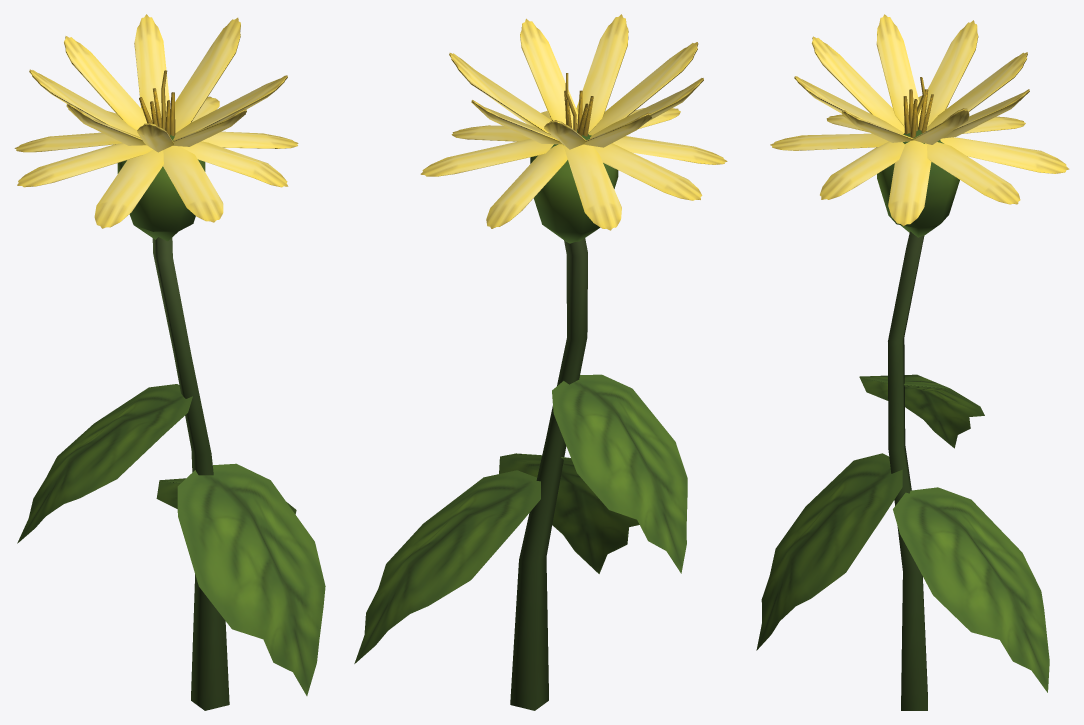
Rendered from Wildflower_Lapsana.fbx.
3 renders of one model, left to right at view 1: azimuth 30°, elevation 25°; view 2: azimuth 150°, elevation 25°; view 3: azimuth 270°, elevation 25°, orthographic. The views are drawn at different scales.
Parts seen in each view (by area): view 1: WildFlower_Lapsana; view 2: WildFlower_Lapsana; view 3: WildFlower_Lapsana.
Boxes of the visible parts, x1,y1,x2,y2 form: WildFlower_Lapsana: (14, 14, 325, 710); WildFlower_Lapsana: (354, 14, 727, 710); WildFlower_Lapsana: (756, 14, 1069, 710).
Size of the model in its own units: 32.33 by 68.28 by 31.16.
